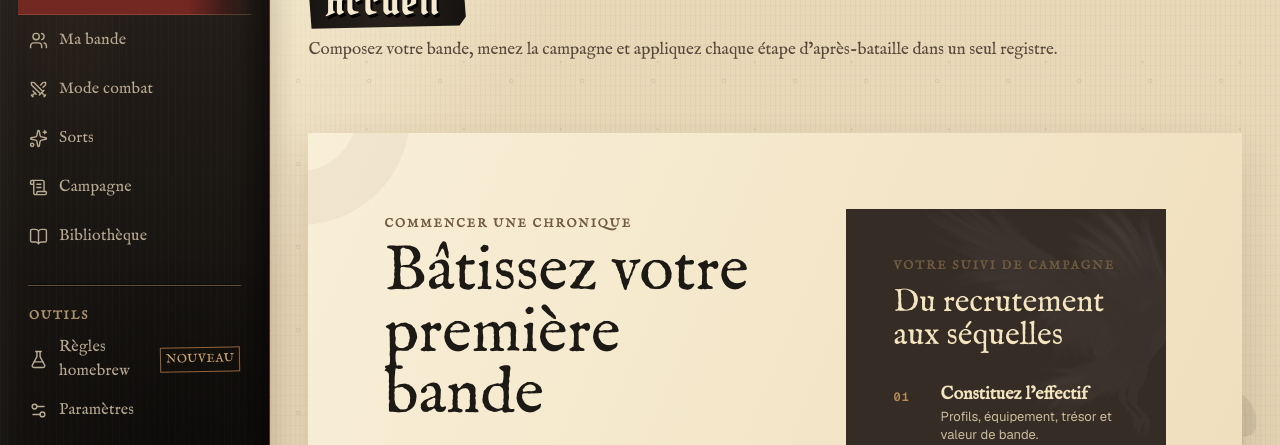
navigation principale › affiche les noms accentués plutôt que les identifiants des profils
Click the link "Bibliothèque". click: (88, 236)
box: [29,226,147,246]
(page scrolled)
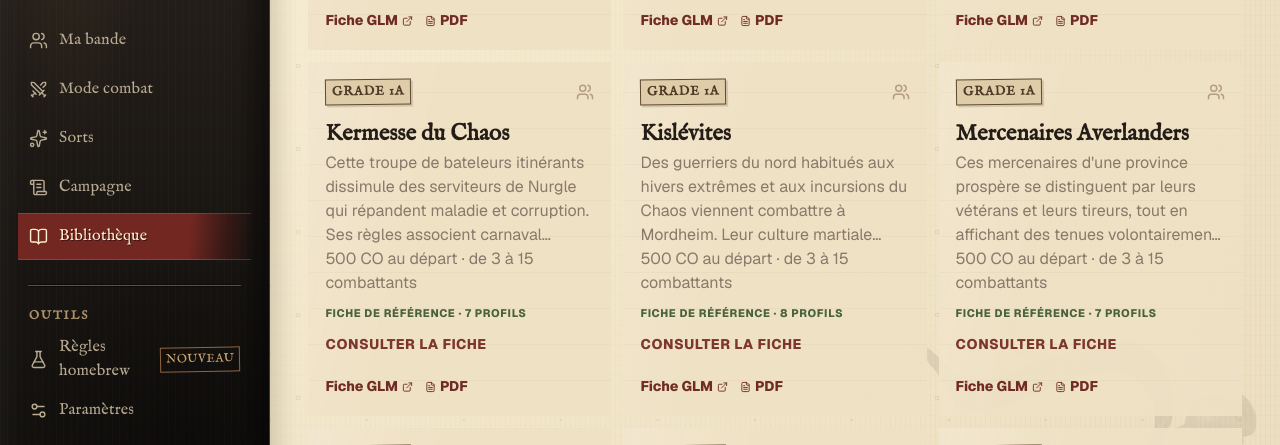
Click the button with aria-label "Consulter les informations de Kermesse du Chaos". click: (460, 218)
box: [325,79,594,357]
(page scrolled)
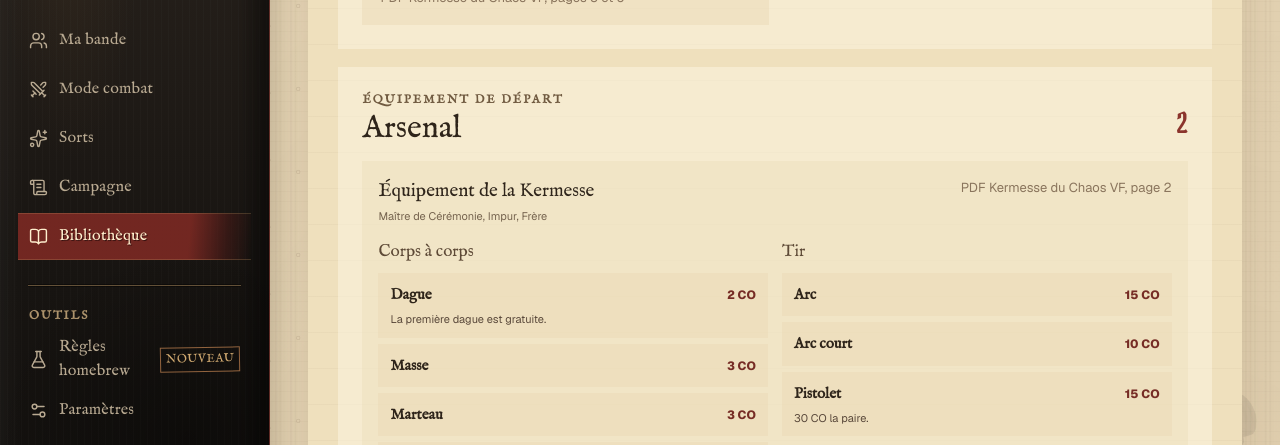
Expected: the text "Maître de Cérémonie, Impur, Frère" is shown, [378,209,547,223]
